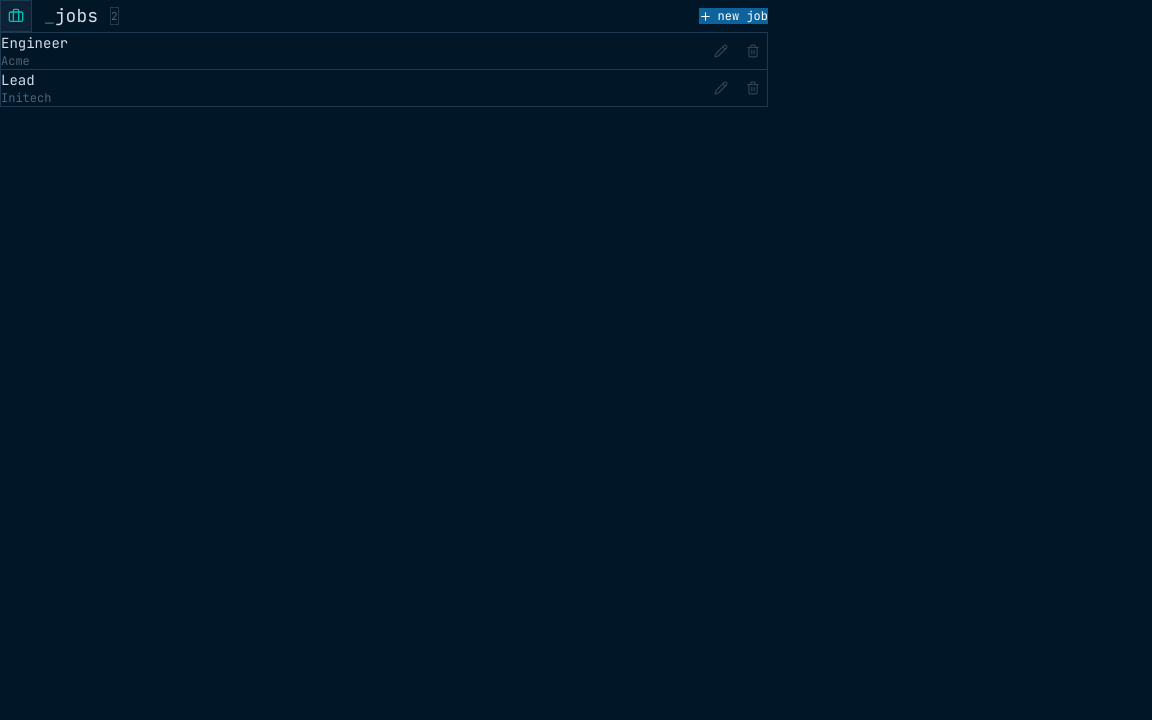
Test: admin jobs list page › confirming sends an authenticated DELETE, removes the row and toasts success
Expected: the text "Engineer" is shown, [1, 33, 68, 53]
Click the button titled "delete" in the row of "Engineer" at x=753, y=51, box [739, 37, 767, 65]
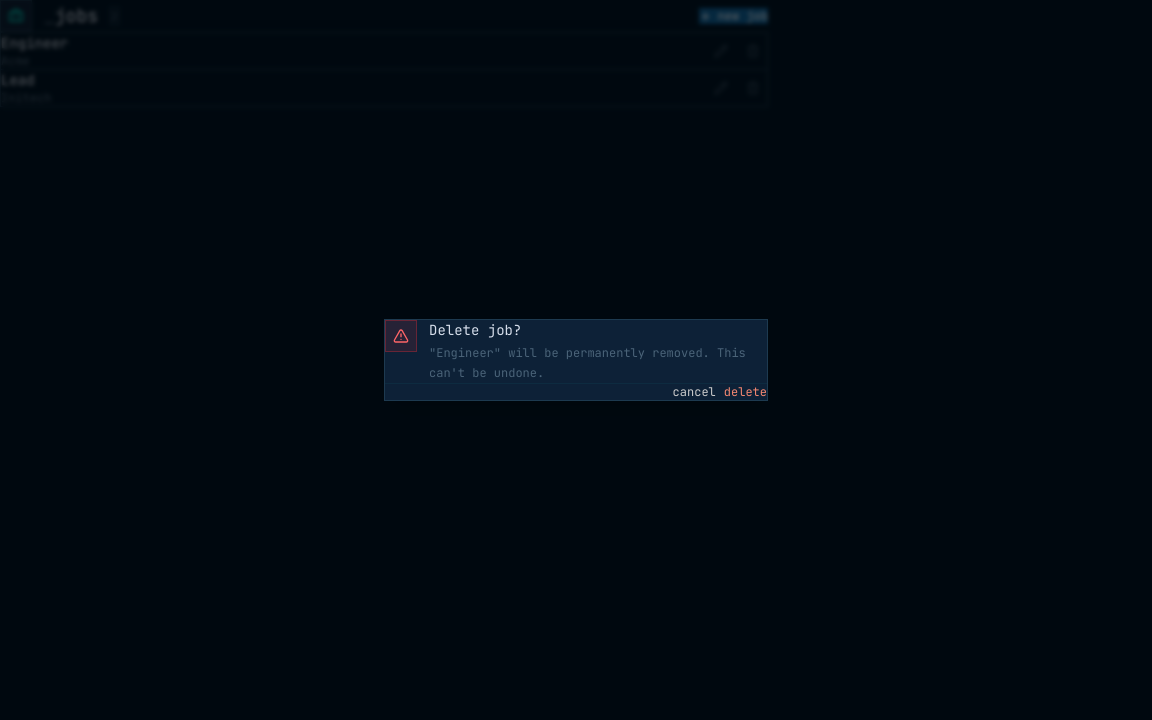
Click the button "delete" at x=745, y=392, box [724, 384, 767, 400]
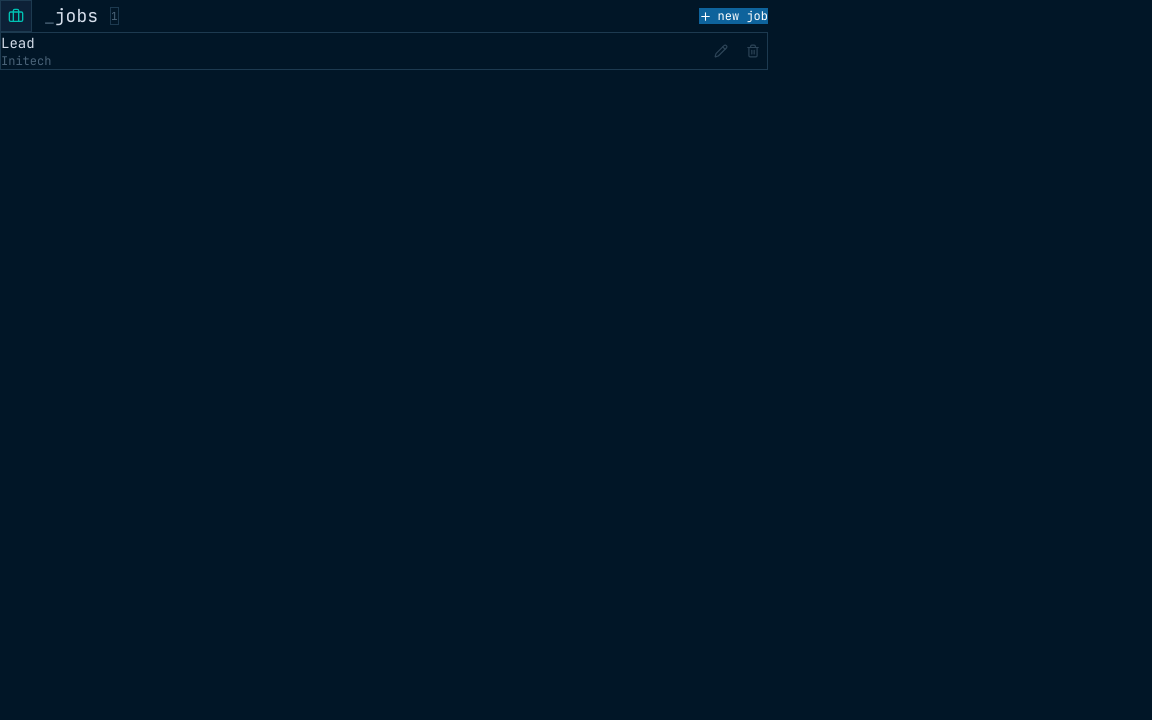
Expected: the text "Lead" is shown, [1, 34, 35, 52]
Expected: the text "Engineer" is gone
